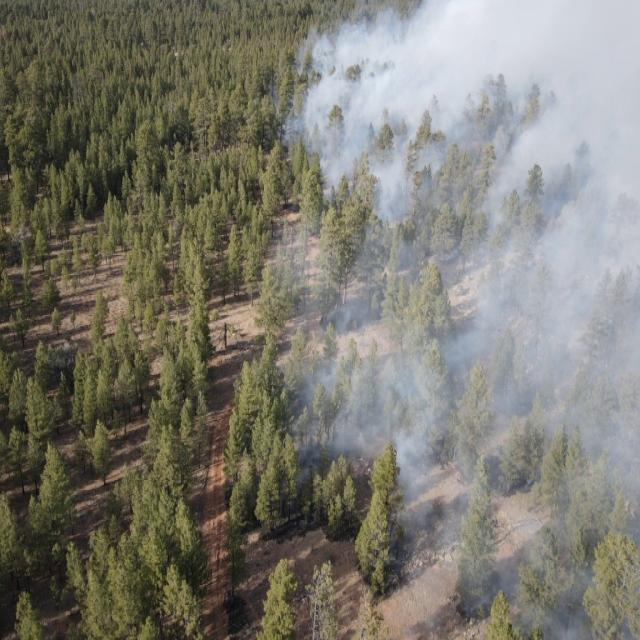smoke: (277, 218, 640, 472), (280, 0, 640, 218), (392, 465, 640, 640)
